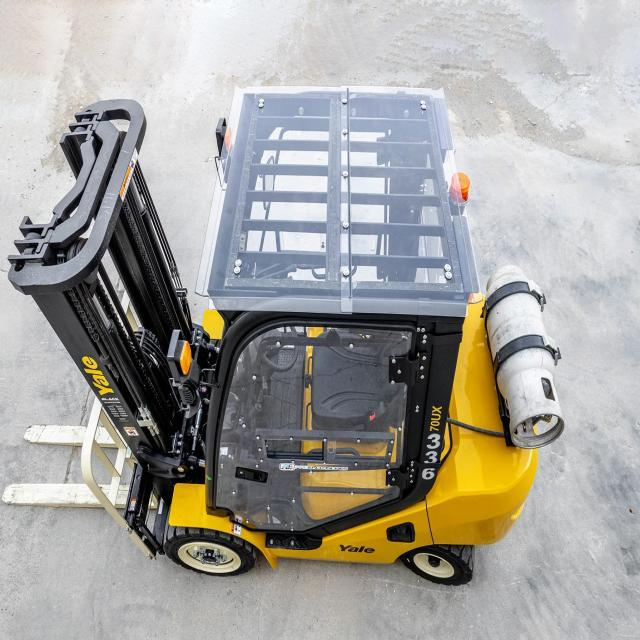forklift: (4, 81, 570, 598)
